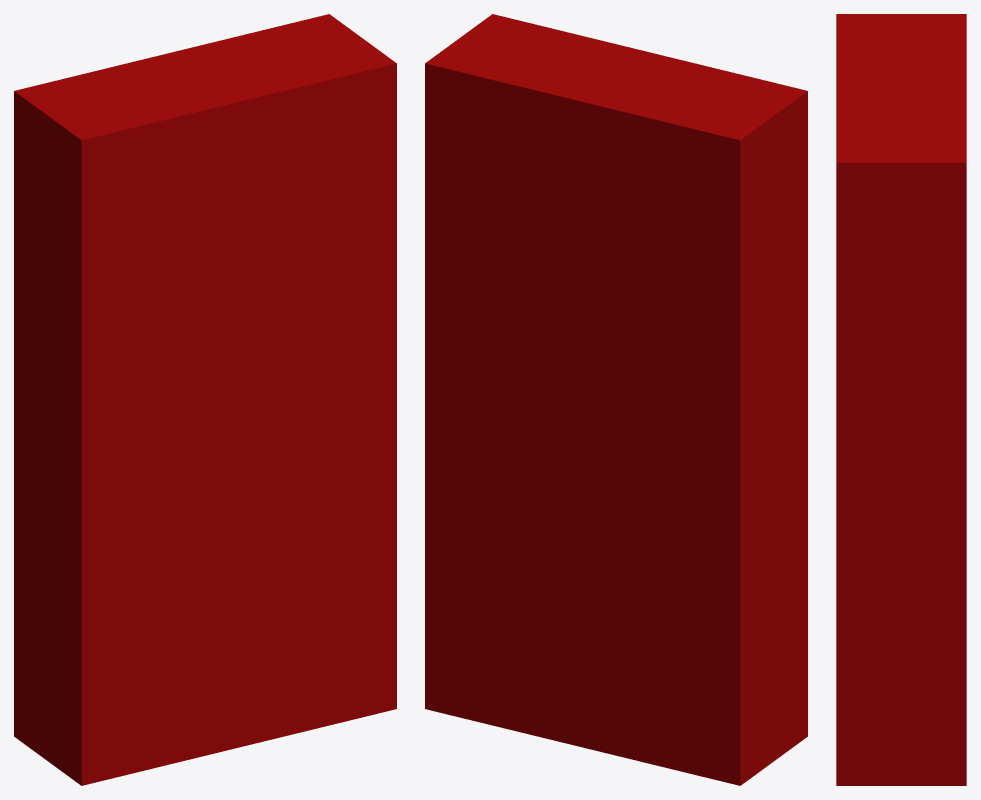
Rendered from Item_phone_Tray_Sec.fbx.
The picture shows the model from 3 angles, left to right: view 1: azimuth 30°, elevation 25°; view 2: azimuth 150°, elevation 25°; view 3: azimuth 270°, elevation 25°; orthographic projection. The views are drawn at different scales.
Visible parts, largest first — view 1: pCube33; view 2: pCube33; view 3: pCube33.
Part boxes in pixels (x1,y1,x2,y2): pCube33: (14,14,396,785); pCube33: (425,14,807,785); pCube33: (836,14,966,785).
Size of the model in its own units: 5.2 by 10.17 by 1.93.
